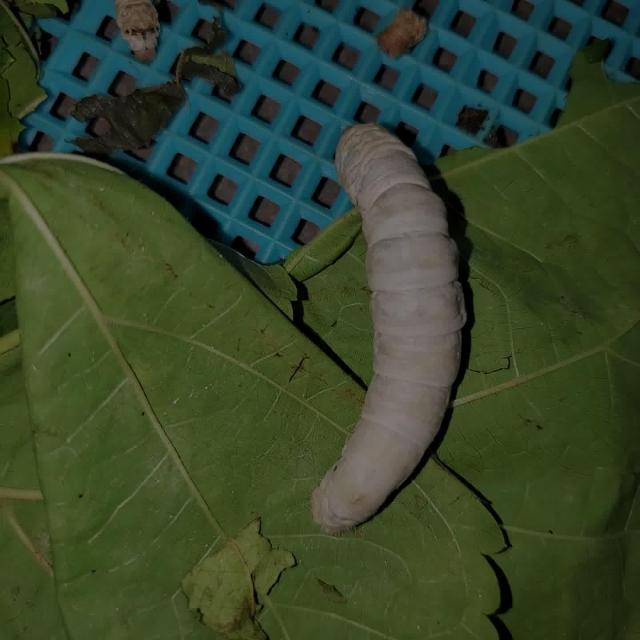Grasserie: (264, 82, 520, 559)
